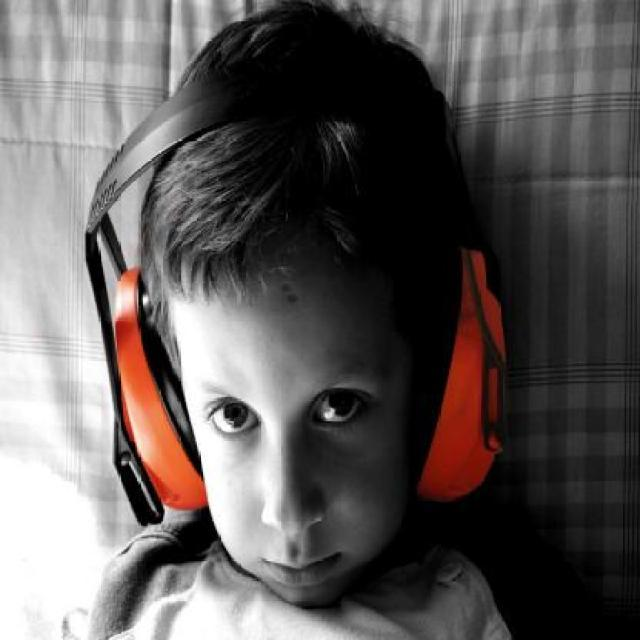earphone: (65, 89, 539, 512)
